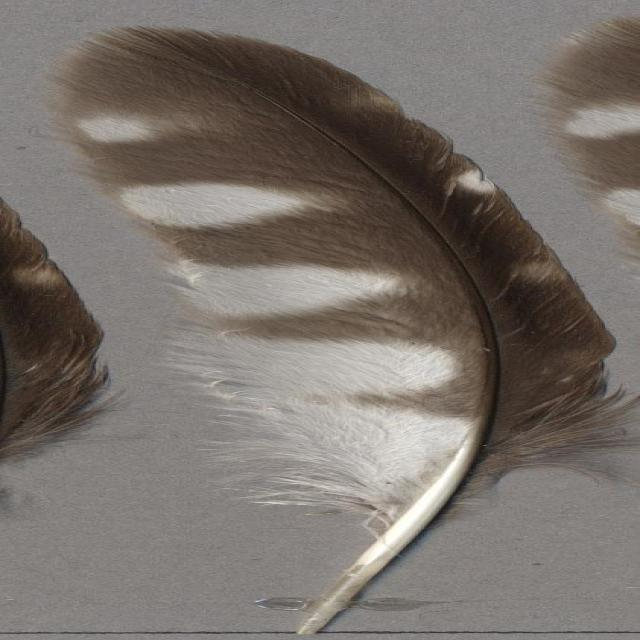feather: (61, 22, 640, 637)
